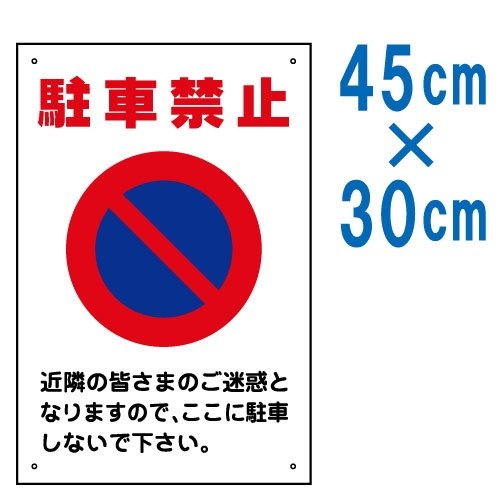Prohibition_sign: (65, 147, 275, 358)
